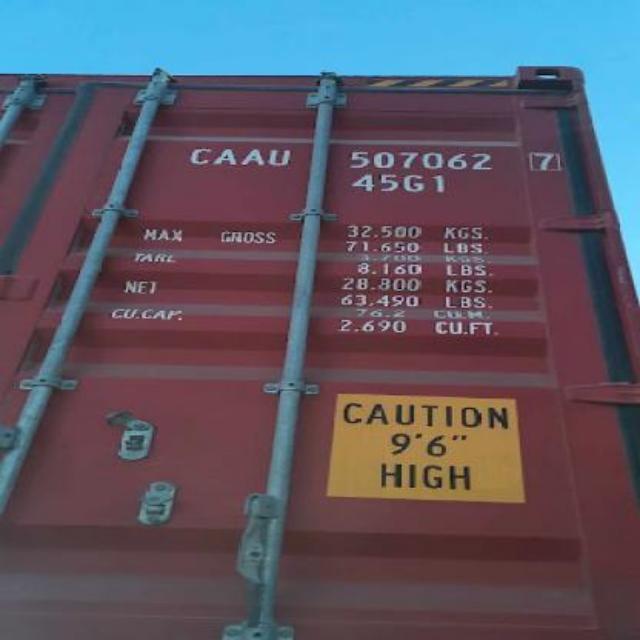0: (372, 148, 398, 170), (420, 148, 446, 170)
2: (472, 148, 498, 172)
5: (346, 150, 372, 168)
6: (446, 148, 470, 172)
7: (398, 146, 419, 170), (530, 154, 560, 170)
A: (236, 144, 268, 166), (214, 145, 238, 165)
C: (186, 146, 214, 164)
U: (266, 143, 294, 167)
